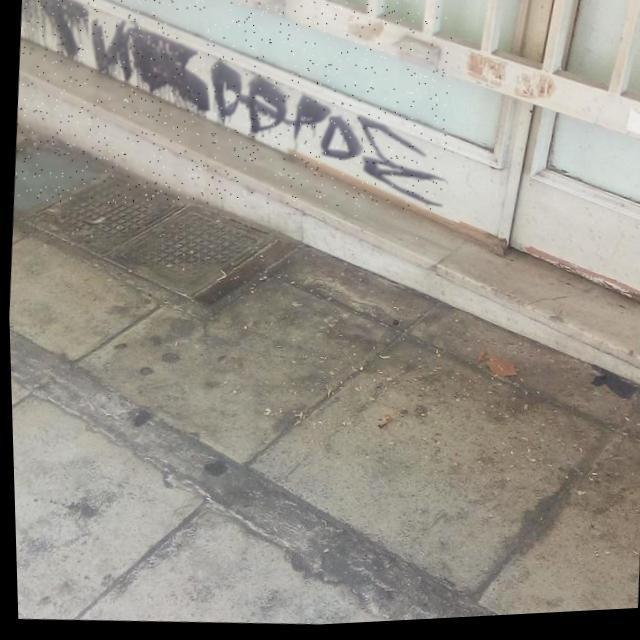-: (7, 0, 457, 232)
